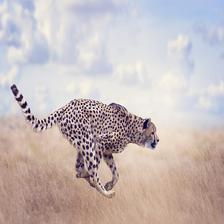Cheetah: (8, 80, 162, 200)
